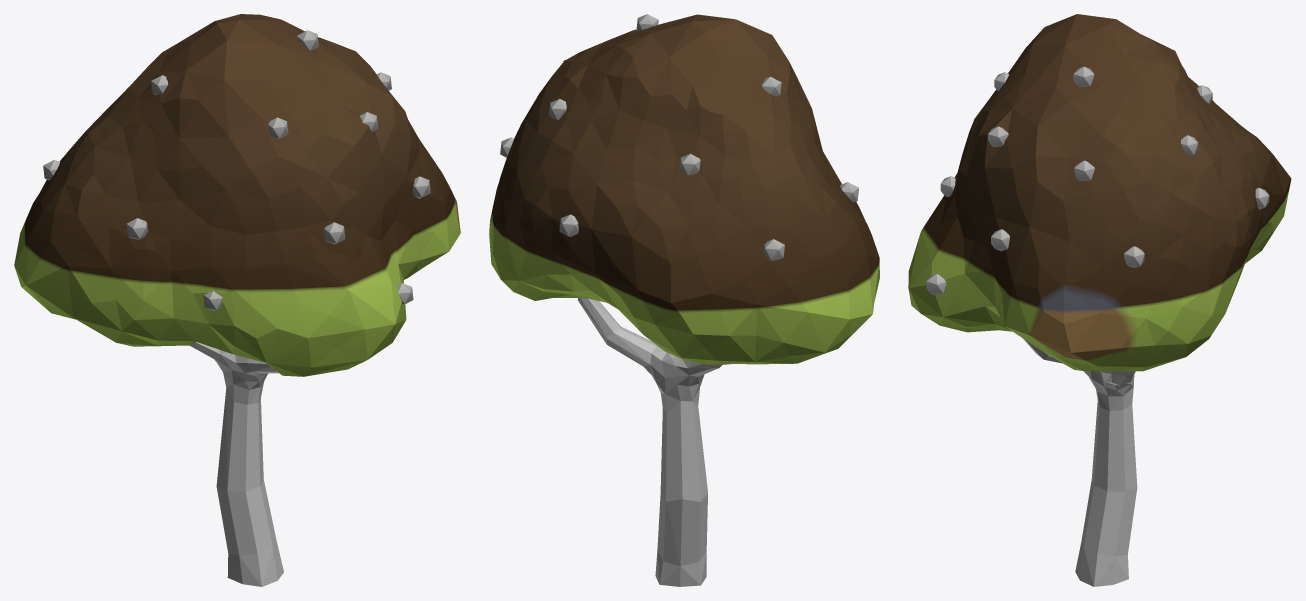
Rendered from AppleTree_02.fbx.
The picture shows the model from 3 angles, left to right: view 1: azimuth 30°, elevation 25°; view 2: azimuth 150°, elevation 25°; view 3: azimuth 270°, elevation 25°; orthographic projection. The views are drawn at different scales.
Visible parts, largest first — view 1: AppleTree_02; view 2: AppleTree_02; view 3: AppleTree_02.
Part boxes in pixels (x1,y1,x2,y2): AppleTree_02: [14, 14, 460, 586]; AppleTree_02: [489, 14, 879, 586]; AppleTree_02: [908, 14, 1291, 586].
Size of the model in its own units: 3.71 by 5.02 by 3.2.
